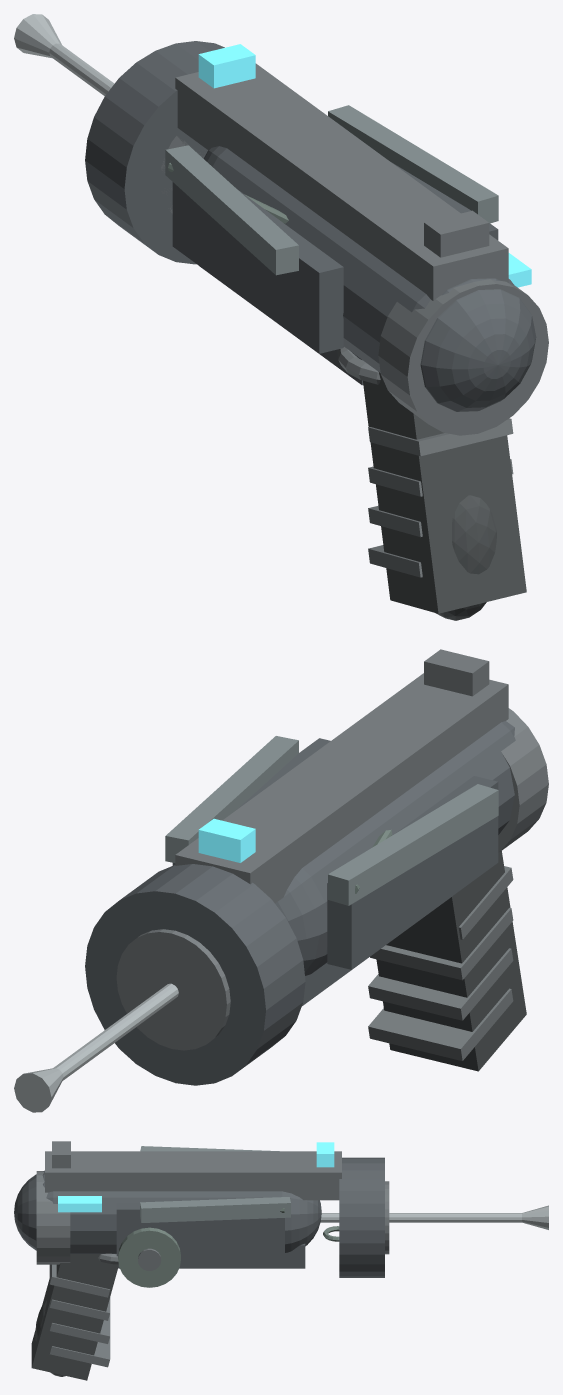
The model's file is alien_onehand_speargun_v4.glb.
3 views of the same model, one above another, from view 1: azimuth 30°, elevation 25°; view 2: azimuth 150°, elevation 25°; view 3: azimuth 270°, elevation 25° (orthographic). The views are drawn at different scales.
Visible parts, largest first — view 1: UpperRail, LauncherBody, Grip, MuzzleCollar, SideCheek_L, RearCap, ReleaseArm_L, ReleaseArm_R, GripHeel, Spear_Loaded, RearSight, GripGroove_1 (+5 smaller); view 2: MuzzleCollar, UpperRail, Grip, LauncherBody, SideCheek_L, MuzzleInner, ReleaseArm_L, ReleaseArm_R, Spear_Loaded, RearCap, GripGroove_4, GripGroove_3 (+6 smaller); view 3: UpperRail, LauncherBody, Grip, MuzzleCollar, SideCheek_R, ReleaseArm_R, ReelSpool, RearCap, Spear_Loaded, LowerRail, GripGroove_4, StatusLight (+8 smaller).
Part boxes in pixels (bbox=[...]): UpperRail: bbox=[175, 63, 508, 300]; LauncherBody: bbox=[203, 146, 536, 411]; Grip: bbox=[363, 372, 526, 613]; MuzzleCollar: bbox=[85, 41, 224, 264]; SideCheek_L: bbox=[172, 182, 343, 353]; RearCap: bbox=[378, 279, 548, 435]; ReleaseArm_L: bbox=[165, 145, 298, 275]; ReleaseArm_R: bbox=[328, 105, 498, 223]; GripHeel: bbox=[435, 495, 496, 620]; Spear_Loaded: bbox=[14, 14, 114, 96]; RearSight: bbox=[424, 210, 489, 257]; GripGroove_1: bbox=[368, 418, 513, 456]; MuzzleCollar: bbox=[85, 864, 305, 1085]; UpperRail: bbox=[175, 673, 508, 903]; Grip: bbox=[376, 851, 526, 1071]; LauncherBody: bbox=[275, 721, 515, 975]; SideCheek_L: bbox=[327, 776, 498, 969]; MuzzleInner: bbox=[116, 929, 230, 1050]; ReleaseArm_L: bbox=[328, 784, 498, 905]; ReleaseArm_R: bbox=[165, 736, 298, 862]; Spear_Loaded: bbox=[14, 983, 178, 1112]; RearCap: bbox=[498, 708, 548, 852]; GripGroove_4: bbox=[368, 988, 513, 1060]; GripGroove_3: bbox=[368, 948, 513, 1020]; UpperRail: bbox=[45, 1151, 341, 1200]; LauncherBody: bbox=[14, 1170, 321, 1253]; Grip: bbox=[31, 1254, 118, 1380]; MuzzleCollar: bbox=[339, 1157, 384, 1277]; SideCheek_R: bbox=[116, 1203, 284, 1256]; ReleaseArm_R: bbox=[140, 1197, 290, 1222]; ReelSpool: bbox=[118, 1227, 180, 1287]; RearCap: bbox=[36, 1171, 70, 1264]; Spear_Loaded: bbox=[320, 1205, 548, 1229]; LowerRail: bbox=[118, 1243, 305, 1268]; GripGroove_4: bbox=[49, 1337, 110, 1367]; StatusLight: bbox=[58, 1196, 101, 1212].
Size of the model in its own units: 0.2018 by 0.3425 by 0.73.
